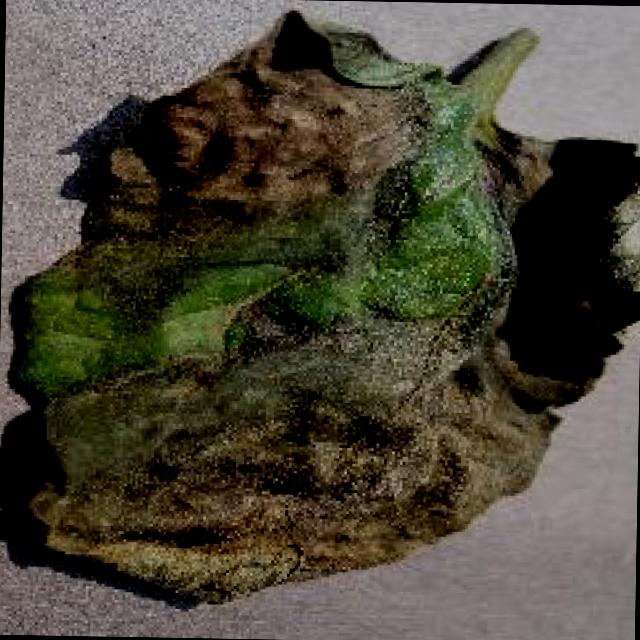leaf blight: (6, 20, 640, 607)
